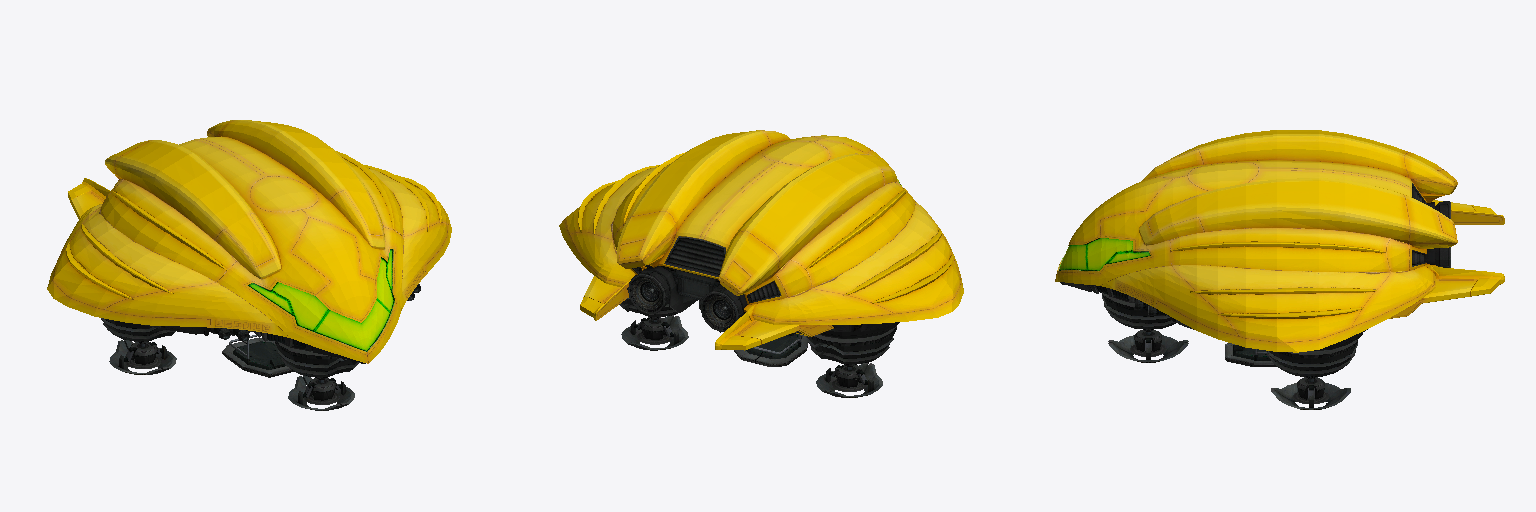
3 views of the same model, side by side, from view 1: azimuth 30°, elevation 25°; view 2: azimuth 150°, elevation 25°; view 3: azimuth 270°, elevation 25° (orthographic).
Parts seen in each view (by area): view 1: polygon0, polygon12, polygon3, polygon5, polygon8, polygon1; view 2: polygon0, polygon5, polygon11, polygon1, polygon10, polygon8, polygon9; view 3: polygon0, polygon5, polygon3, polygon12, polygon8, polygon1, polygon10.
Boxes of the visible parts, <box> form: polygon0: <box>47,120,451,363</box>; polygon12: <box>248,249,393,351</box>; polygon3: <box>275,329,359,410</box>; polygon5: <box>101,318,176,374</box>; polygon8: <box>222,337,293,377</box>; polygon1: <box>145,259,392,363</box>; polygon0: <box>559,130,963,350</box>; polygon5: <box>619,298,899,397</box>; polygon11: <box>632,236,803,334</box>; polygon1: <box>635,266,896,331</box>; polygon10: <box>627,271,670,314</box>; polygon8: <box>734,333,807,366</box>; polygon9: <box>700,288,742,332</box>; polygon0: <box>1055,130,1504,352</box>; polygon5: <box>1267,332,1362,409</box>; polygon3: <box>1102,292,1188,362</box>; polygon12: <box>1059,238,1150,270</box>; polygon8: <box>1225,343,1276,366</box>; polygon1: <box>1060,202,1434,340</box>; polygon10: <box>1135,247,1450,316</box>.
Size of the model in its own units: 13.7 by 6.73 by 13.82.
9 materials, 8 textured.